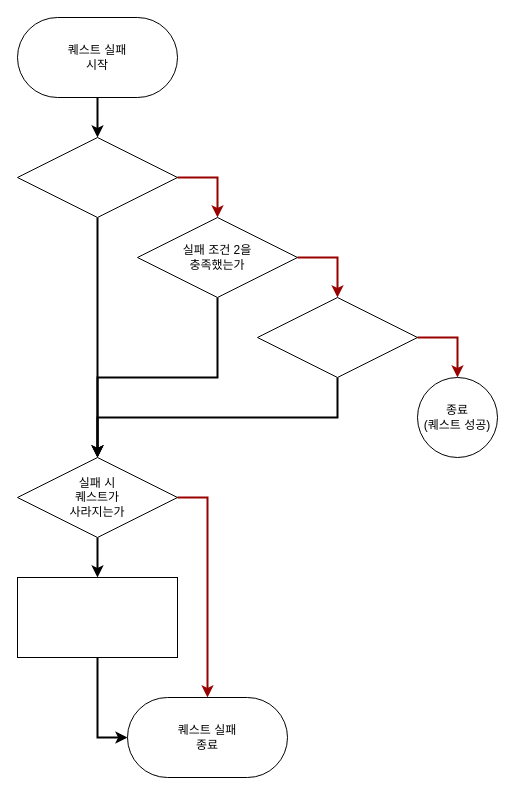
Image size: 515x795. Some labels were removed from this diagram. The shapes that lost their labels are listed below. From the top down, each one's centre as x and y in pixels, then its label:
point (97, 177): 실패 조건 1을 충족했는가
point (337, 337): 실패 조건 3을 충족했는가
point (97, 617): 퀘스트 자동 포기 및 소멸
